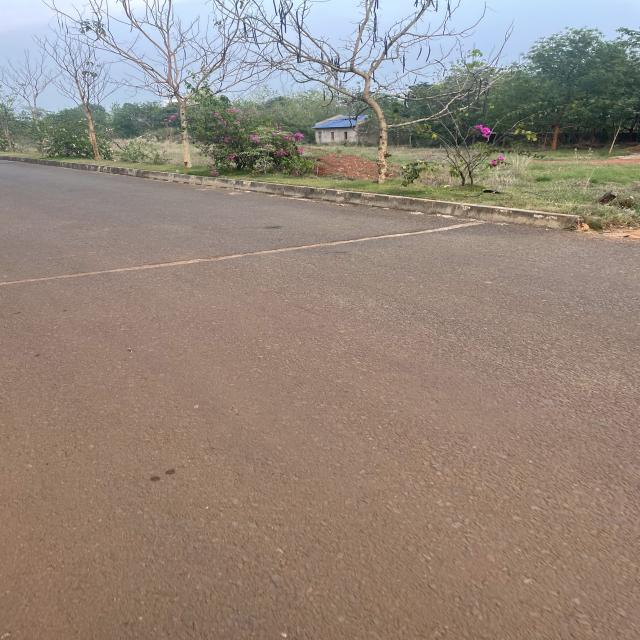D11: (0, 216, 433, 312)
